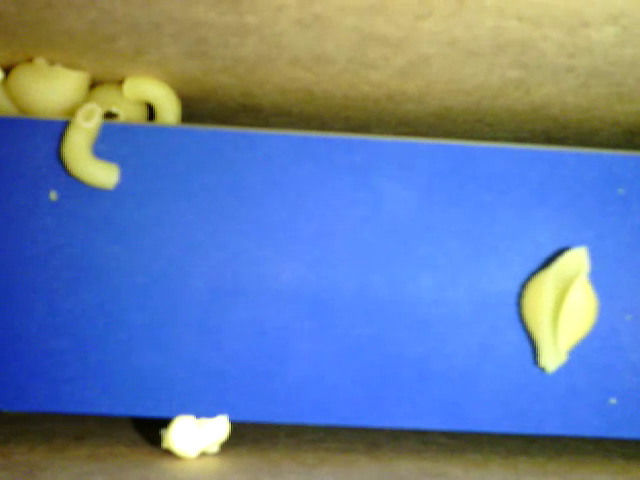elbow: (61, 103, 120, 189), (122, 71, 180, 123)
shell: (516, 245, 598, 374), (6, 53, 88, 120), (87, 81, 146, 124)
